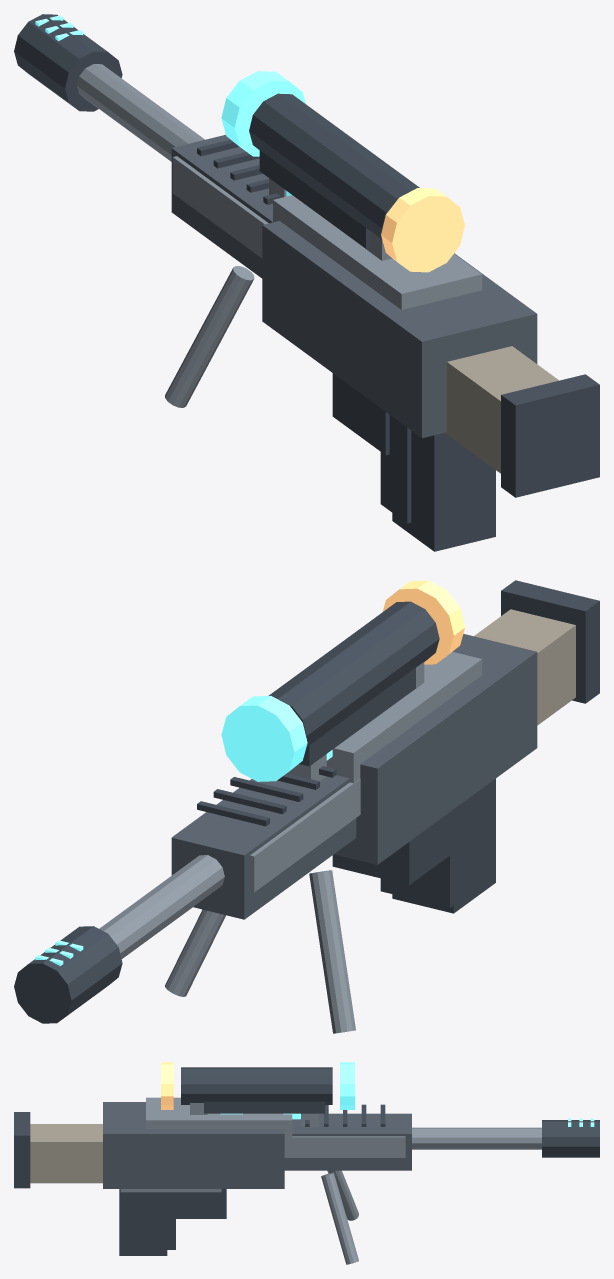
File: sniper.glb
3 views of the same model, one above another, from view 1: azimuth 30°, elevation 25°; view 2: azimuth 150°, elevation 25°; view 3: azimuth 270°, elevation 25° (orthographic). The views are drawn at different scales.
Parts seen in each view (by area): view 1: body_material_2, body_material_0, body_material_1, body_material_3, body_material_5, body_material_4; view 2: body_material_2, body_material_0, body_material_1, body_material_4, body_material_3, body_material_5; view 3: body_material_0, body_material_2, body_material_1, body_material_3, body_material_4, body_material_5.
Part boxes in pixels (x1,y1,x2,y2): body_material_2: (14,14,599,551); body_material_0: (171,134,537,438); body_material_1: (77,64,482,407); body_material_3: (445,346,558,473); body_material_5: (381,188,464,272); body_material_4: (35,15,305,196); body_material_2: (14,580,599,1023); body_material_0: (171,634,537,919); body_material_1: (99,652,482,1033); body_material_4: (35,696,332,965); body_material_3: (474,609,575,725); body_material_5: (382,580,464,664); body_material_0: (103,1102,411,1188); body_material_2: (14,1067,599,1255); body_material_1: (120,1097,541,1264); body_material_3: (30,1124,102,1183); body_material_4: (220,1062,594,1126); body_material_5: (161,1062,173,1109).
Bounding box in the file's own units: 0.4897 × 0.8 × 2.32.
